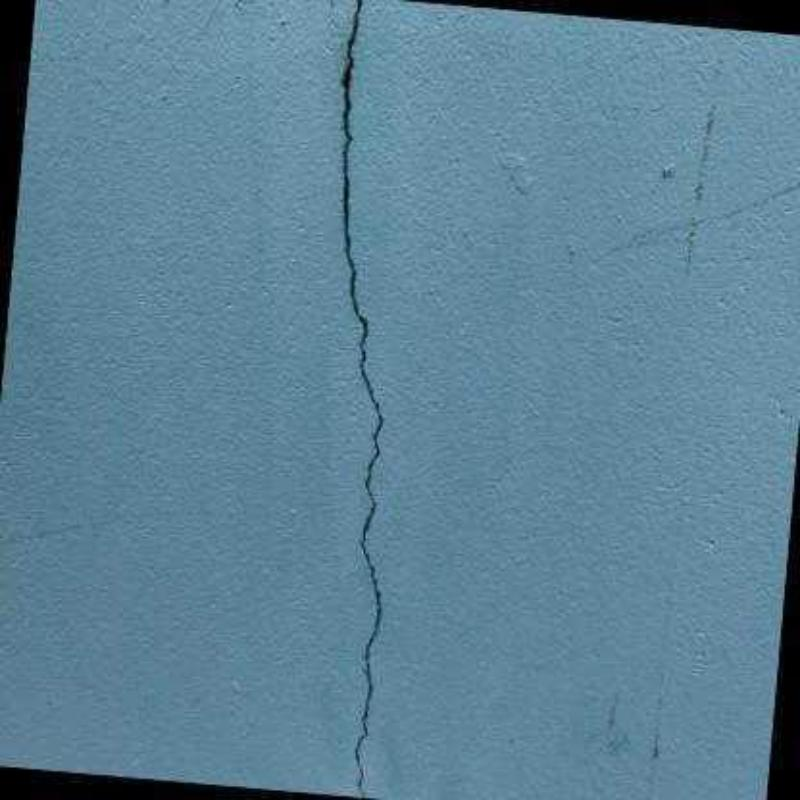crack: (341, 1, 384, 798)
